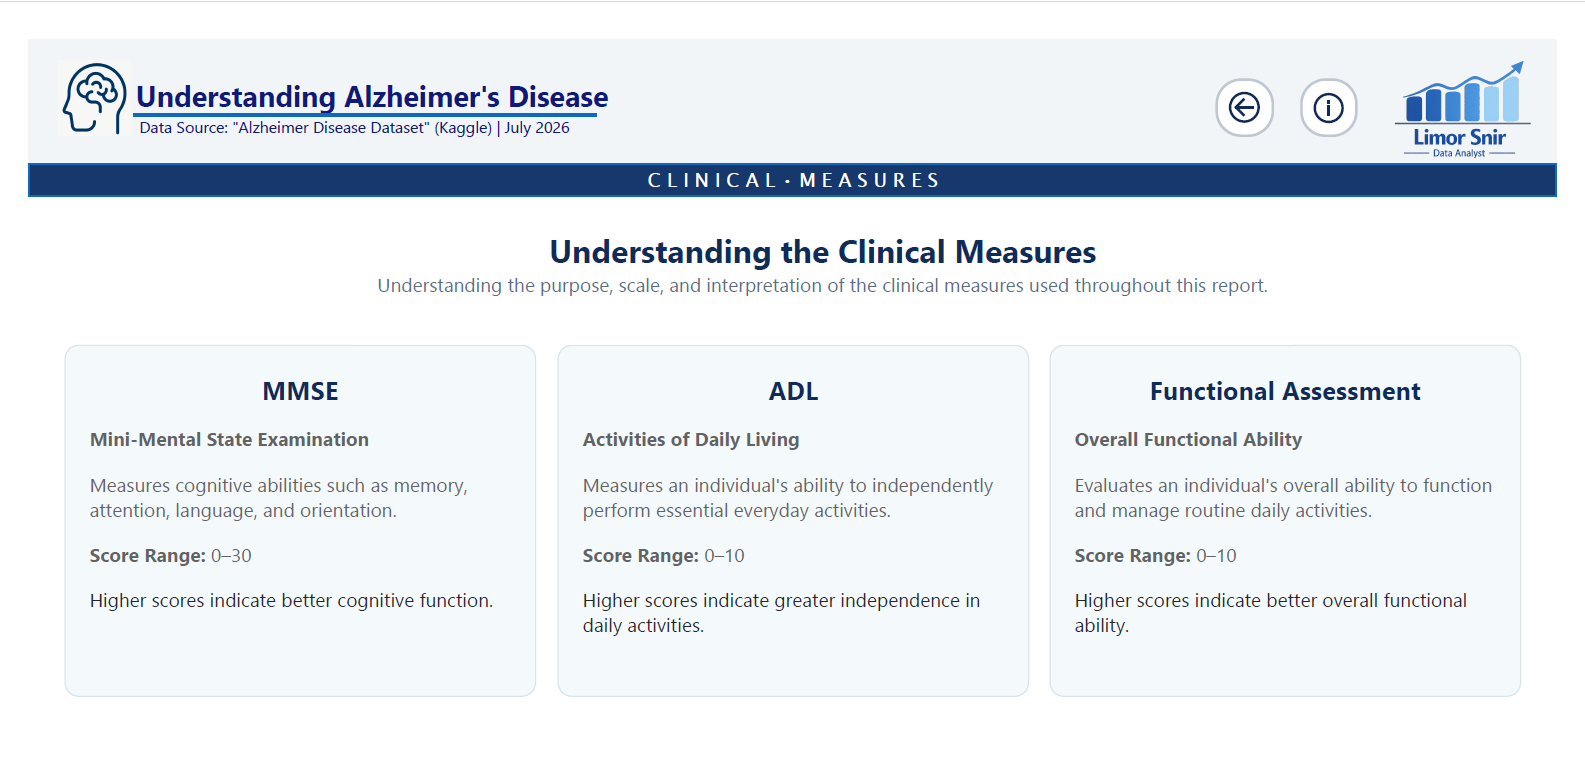

This screenshot's page, from the dashboard's own definition file:
{"tool":"powerbi","page":{"name":"CLINICAL MEASURES","canvas":[1280,720],"ordinal":4},"visuals":[{"type":"textbox","title":"main TITLE","box":[0,7.1,1280,108.3],"z":0},{"type":"shape","title":"Title Line","box":[0,79.8,1280,69.8],"z":1000},{"type":"shape","title":"General Legend","box":[87.7,0,388.2,140.5],"z":2000},{"type":"actionButton","box":[994.2,40.4,48.9,48.9],"z":3000},{"type":"actionButton","box":[1065.1,40.4,48,48.9],"z":4000},{"type":"image","box":[1129.7,18.1,141.9,93.2],"z":5000},{"type":"image","title":"Alz IMAGE","box":[15.9,19.6,78.3,73.4],"z":7000},{"type":"shape","title":"Page Title","box":[0,110.9,1280,28.4],"z":8000},{"type":"textbox","box":[30.2,263.5,395.2,295],"z":13000},{"type":"textbox","box":[854.9,263.5,395.2,295],"z":14000},{"type":"textbox","box":[442.5,263.5,395.2,295],"z":15000},{"type":"textbox","box":[271.7,160.5,786.3,102.9],"z":16000}]}

Visuals, with their boxes on the page's 1280x720 design canvas (x1, y1, x2, y2). These are canvas units, not pixel positions in the 1585x778 screenshot, which may show the page scaled, cropped or inside an application window:
"main TITLE" textbox: x1=0 y1=7 x2=1280 y2=115
"Title Line" shape: x1=0 y1=80 x2=1280 y2=150
"General Legend" shape: x1=88 y1=0 x2=476 y2=140
actionButton: x1=994 y1=40 x2=1043 y2=89
actionButton: x1=1065 y1=40 x2=1113 y2=89
image: x1=1130 y1=18 x2=1272 y2=111
"Alz IMAGE" image: x1=16 y1=20 x2=94 y2=93
"Page Title" shape: x1=0 y1=111 x2=1280 y2=139
textbox: x1=30 y1=264 x2=425 y2=558
textbox: x1=855 y1=264 x2=1250 y2=558
textbox: x1=442 y1=264 x2=838 y2=558
textbox: x1=272 y1=160 x2=1058 y2=263
